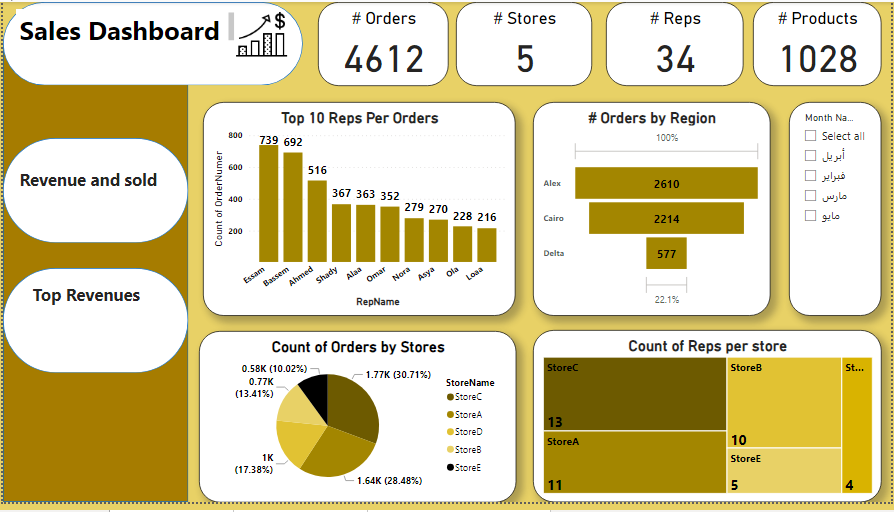

Layout of this report page (visuals, bound fields, positions):
{"tool":"powerbi","page":{"name":"stores and reps","canvas":[1280,720],"ordinal":0},"visuals":[{"type":"card","title":"# Orders","fields":{"Values":["DAX Measures.# Oreders"]},"box":[452.9,0,187.9,120.8],"z":0},{"type":"card","title":"# Products","fields":{"Values":["DAX Measures.# Products"]},"box":[1080.4,0,184.5,120.8],"z":1000},{"type":"card","title":"# Reps","fields":{"Values":["DAX Measures.# Reps"]},"box":[869,0,198,120.8],"z":2000},{"type":"card","title":"# Stores","fields":{"Values":["DAX Measures.# Stores"]},"box":[652.6,0,196.3,120.8],"z":3000},{"type":"shape","box":[0,0,266.7,719.7],"z":4000},{"type":"shape","box":[0,0,431.7,120],"z":5000},{"type":"textbox","box":[18.5,10.1,318.7,53.7],"z":6000},{"type":"image","box":[312,0,119.1,93.9],"z":7000},{"type":"shape","box":[0,196.3,266.7,151],"z":9000},{"type":"shape","box":[0,382.5,266.7,151],"z":10000},{"type":"treemap","title":"Count of Reps per store","fields":{"Group":["Stores_dim.StoreName"],"Values":["Count(Sales_fact.RepID)"]},"box":[763.3,471.7,501.7,248.3],"z":11000},{"type":"pieChart","title":"Count of Orders by Stores","fields":{"Y":["Count(Sales_fact.OrderNumer)"],"Category":["Stores_dim.StoreName"]},"box":[281.7,473.3,456.7,246.7],"z":12000},{"type":"columnChart","title":"Top 10 Reps Per Orders","fields":{"Y":["Count(Sales_fact.OrderNumer)"],"Category":["Reps_dim.RepName"]},"box":[288.3,143.3,450,308.3],"z":13000},{"type":"slicer","fields":{"Values":["Date_dim.Month Name"]},"box":[1131.7,143.3,133.3,308.3],"z":14000},{"type":"textbox","box":[18.5,233.2,213.1,58.7],"z":15000},{"type":"textbox","box":[36.9,399.3,179.5,52],"z":16000},{"type":"funnel","fields":{"Y":["DAX Measures.# Oreders"],"Category":["Stores_dim.Region"]},"box":[763.3,143.3,341.7,308.3],"z":17000}]}

Visuals, with their boxes in screenshot pixels (x1, y1, x2, y2), scaled from the page's 1280x720 canvas onto the 894x512 screenshot:
"# Orders" card: {"left": 316, "top": 0, "right": 448, "bottom": 86}
"# Products" card: {"left": 755, "top": 0, "right": 883, "bottom": 86}
"# Reps" card: {"left": 607, "top": 0, "right": 745, "bottom": 86}
"# Stores" card: {"left": 456, "top": 0, "right": 593, "bottom": 86}
shape: {"left": 0, "top": 0, "right": 186, "bottom": 511}
shape: {"left": 0, "top": 0, "right": 302, "bottom": 85}
textbox: {"left": 13, "top": 7, "right": 236, "bottom": 45}
image: {"left": 218, "top": 0, "right": 301, "bottom": 67}
shape: {"left": 0, "top": 140, "right": 186, "bottom": 247}
shape: {"left": 0, "top": 272, "right": 186, "bottom": 379}
"Count of Reps per store" treemap: {"left": 533, "top": 335, "right": 884, "bottom": 511}
"Count of Orders by Stores" pieChart: {"left": 197, "top": 337, "right": 516, "bottom": 511}
"Top 10 Reps Per Orders" columnChart: {"left": 201, "top": 102, "right": 516, "bottom": 321}
slicer - Date_dim.Month Name: {"left": 790, "top": 102, "right": 884, "bottom": 321}
textbox: {"left": 13, "top": 166, "right": 162, "bottom": 208}
textbox: {"left": 26, "top": 284, "right": 151, "bottom": 321}
funnel - DAX Measures.# Oreders x Stores_dim.Region: {"left": 533, "top": 102, "right": 772, "bottom": 321}
